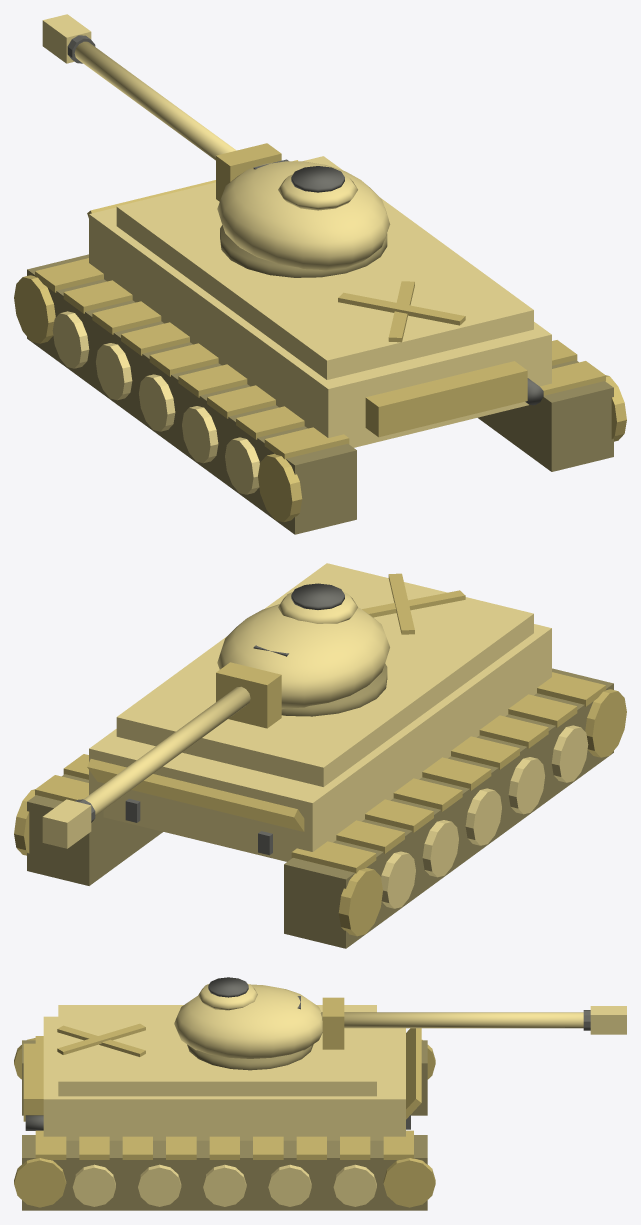
File: tanque-tan.gltf
3 views of the same model, one above another, from view 1: azimuth 30°, elevation 25°; view 2: azimuth 150°, elevation 25°; view 3: azimuth 270°, elevation 25° (orthographic). The views are drawn at different scales.
Visible parts, largest first — view 1: CascoSuperior, CascoInferior, Oruga_Izq, TorretaCuerpo, Oruga_Der, CajaTrasera, Canon, Motriz_Izq, Tensora_Izq, AnilloTorreta, Mantelete, Rueda_Izq_2 (+20 smaller); view 2: CascoSuperior, CascoInferior, Oruga_Izq, TorretaCuerpo, Oruga_Der, PlacaFrontal, Canon, Mantelete, Tensora_Izq, Motriz_Izq, Bocacha, Rueda_Izq_0 (+20 smaller); view 3: CascoSuperior, CascoInferior, Oruga_Der, TorretaCuerpo, Canon, Motriz_Der, Tensora_Der, CajaTrasera, Rueda_Der_3, Rueda_Der_2, Rueda_Der_4, Rueda_Der_0 (+19 smaller).
Boxes of the visible parts, x1,y1,x2,y2 form: CascoSuperior: (116,156,533,379); CascoInferior: (89,207,551,447); Oruga_Izq: (27,254,356,534); TorretaCuerpo: (217,161,390,270); Oruga_Der: (478,360,613,471); CajaTrasera: (365,361,527,437); Canon: (74,41,236,160); Motriz_Izq: (258,453,302,522); Tensora_Izq: (14,275,55,343); AnilloTorreta: (220,225,387,277); Mantelete: (216,143,281,201); Rueda_Izq_2: (139,374,175,431); CascoSuperior: (116,563,533,786); CascoInferior: (89,624,551,861); Oruga_Izq: (284,668,613,948); TorretaCuerpo: (217,604,389,709); Oruga_Der: (27,774,163,885); PlacaFrontal: (87,759,304,831); Canon: (84,686,250,815); Mantelete: (216,662,281,728); Tensora_Izq: (338,868,382,936); Motriz_Izq: (585,689,626,757); Bocacha: (42,799,91,848); Rueda_Izq_0: (551,725,588,782); CascoSuperior: (58,1005,376,1096); CascoInferior: (43,1016,405,1140); Oruga_Der: (22,1135,427,1210); TorretaCuerpo: (174,984,322,1058); Canon: (320,1012,583,1028); Motriz_Der: (14,1158,66,1207); Tensora_Der: (383,1158,435,1207); CajaTrasera: (23,1043,43,1121); Rueda_Der_3: (268,1164,311,1206); Rueda_Der_2: (203,1164,246,1206); Rueda_Der_4: (333,1164,376,1206); Rueda_Der_0: (72,1164,115,1206).
Bounding box in the file's own units: 4.04 × 2.52 × 8.46.
